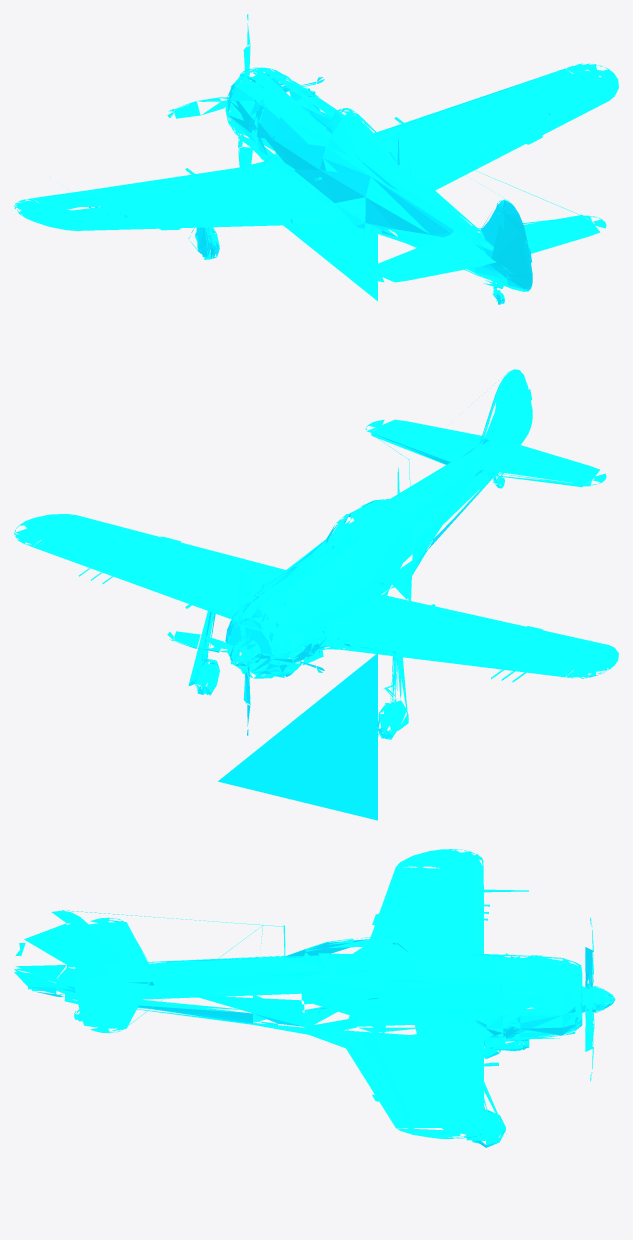
File: PJAF023.glb
The picture shows the model from 3 angles, top to bottom: view 1: azimuth 30°, elevation 25°; view 2: azimuth 150°, elevation 25°; view 3: azimuth 270°, elevation 25°; orthographic projection.
Visible parts, largest first — view 1: misc; view 2: misc; view 3: misc.
Boxes of the visible parts, left/top/right/bottom form: misc: left=14, top=14, right=618, bottom=304; misc: left=14, top=369, right=618, bottom=820; misc: left=14, top=849, right=615, bottom=1147.
Size of the model in its own units: 0.7489 by 0.3336 by 0.6613.
